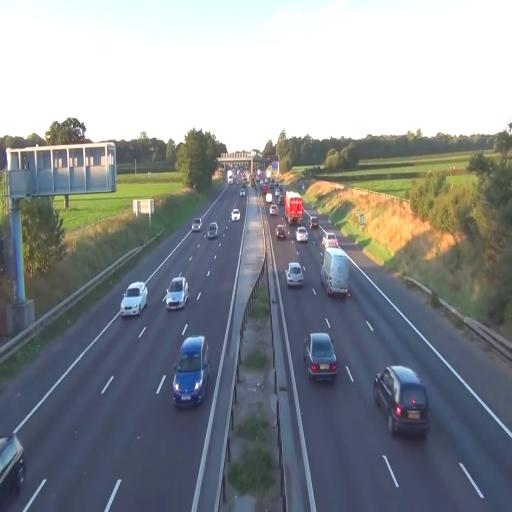vehicle: (372, 364, 430, 438), (373, 366, 429, 438), (173, 334, 210, 408), (173, 336, 209, 406), (304, 331, 338, 382), (0, 434, 25, 502), (321, 246, 351, 301), (0, 432, 26, 494), (303, 333, 336, 380), (320, 248, 348, 297), (120, 280, 148, 317), (120, 282, 146, 317), (164, 276, 188, 310), (165, 277, 187, 310), (284, 191, 302, 225), (285, 192, 303, 225), (286, 261, 304, 288), (285, 263, 302, 287), (294, 226, 308, 244), (322, 232, 337, 248), (276, 223, 289, 241), (206, 222, 217, 239), (208, 220, 218, 238), (295, 227, 307, 242), (231, 206, 240, 222), (192, 218, 202, 232), (275, 225, 285, 239), (191, 218, 201, 231), (308, 217, 318, 229), (230, 210, 239, 221), (269, 205, 277, 215), (227, 170, 232, 184), (265, 193, 271, 203), (262, 183, 267, 194), (274, 188, 280, 197), (278, 195, 283, 205), (266, 169, 270, 179), (275, 180, 280, 188), (240, 187, 244, 196), (259, 179, 263, 187), (241, 180, 245, 188), (268, 183, 273, 189), (278, 184, 282, 191), (264, 178, 268, 184)
